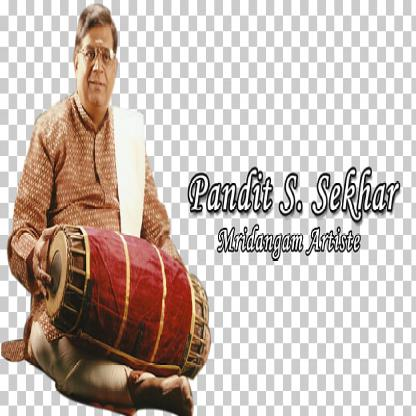Mridangam: (29, 220, 218, 384)
